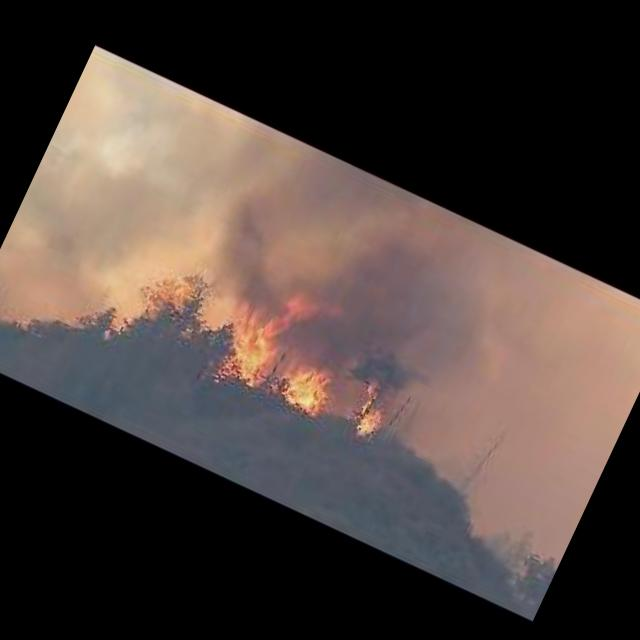fire: (202, 268, 310, 398), (270, 348, 344, 422), (341, 377, 403, 448)
smoke: (147, 108, 532, 420)
